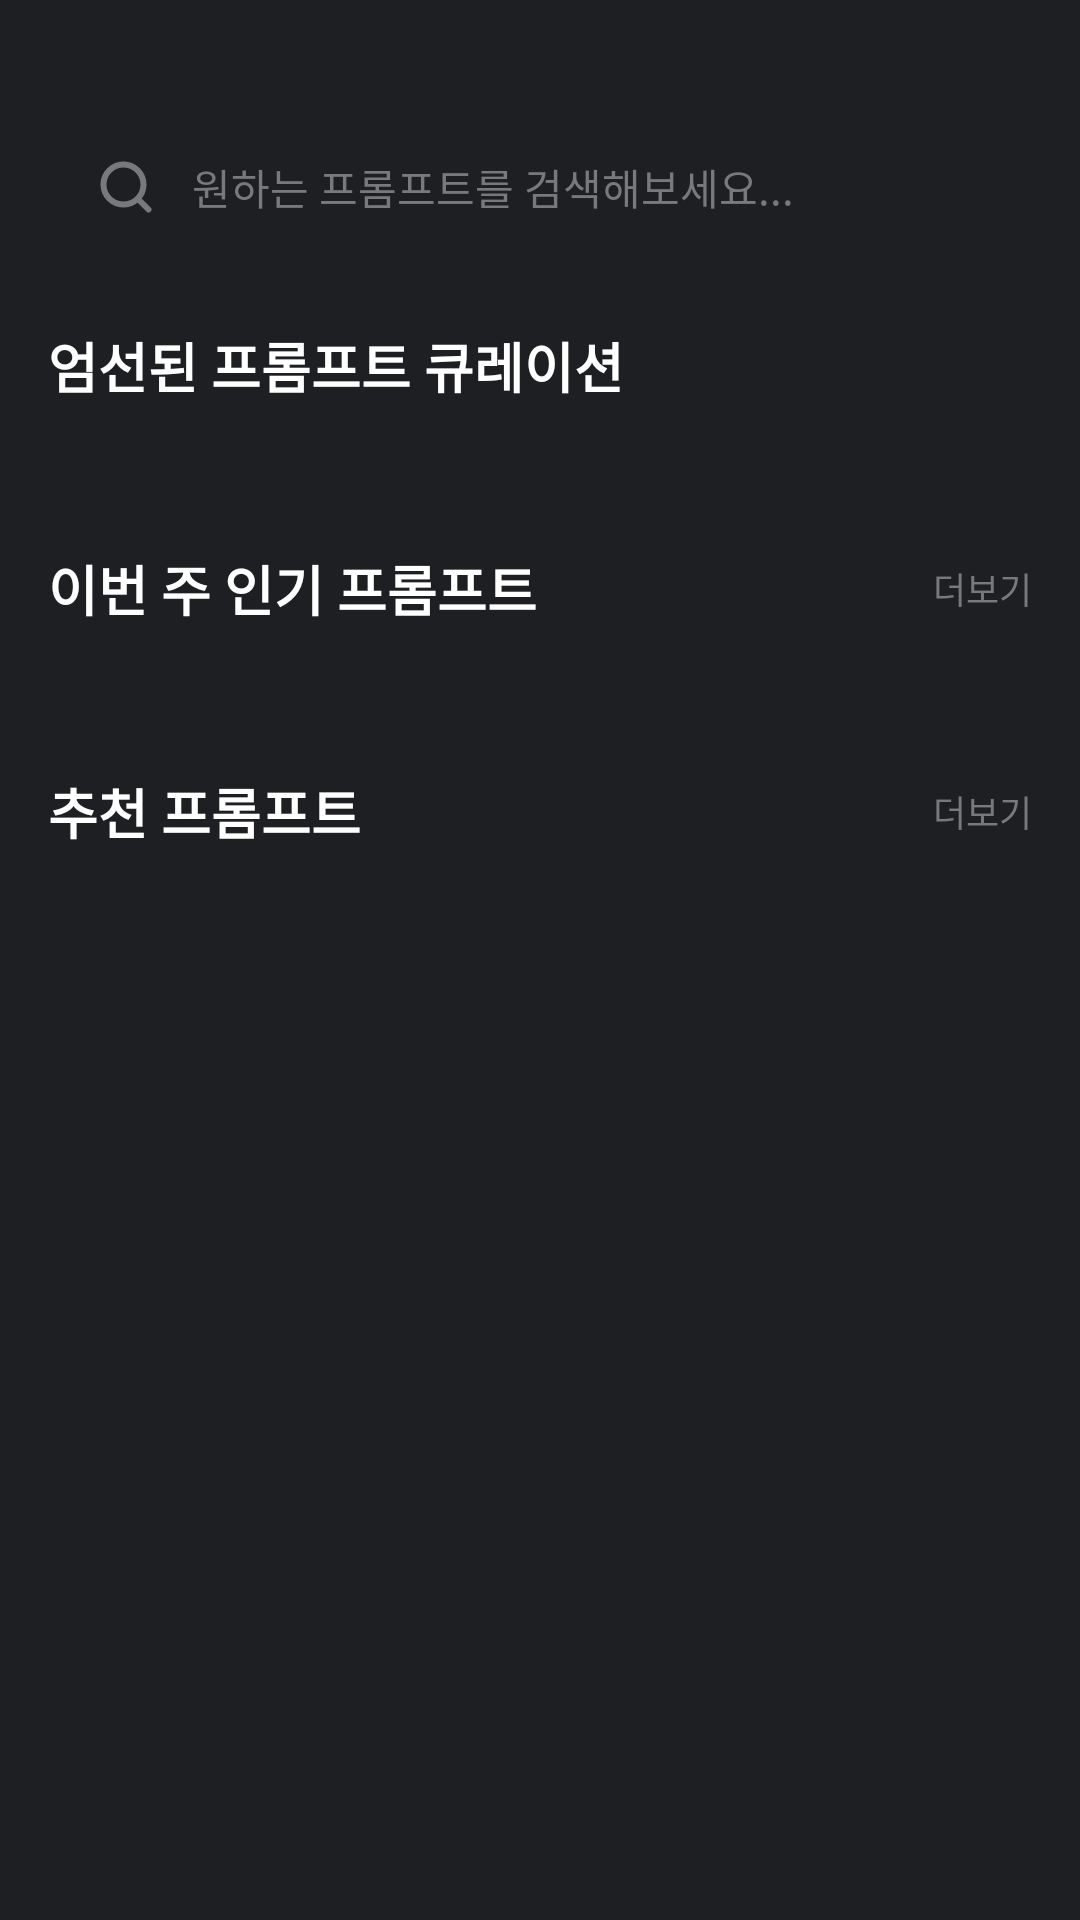

Icon click points for this 1080 x 1920 phone screenshot, format (x=x, y=y):
search: (x=126, y=187)
